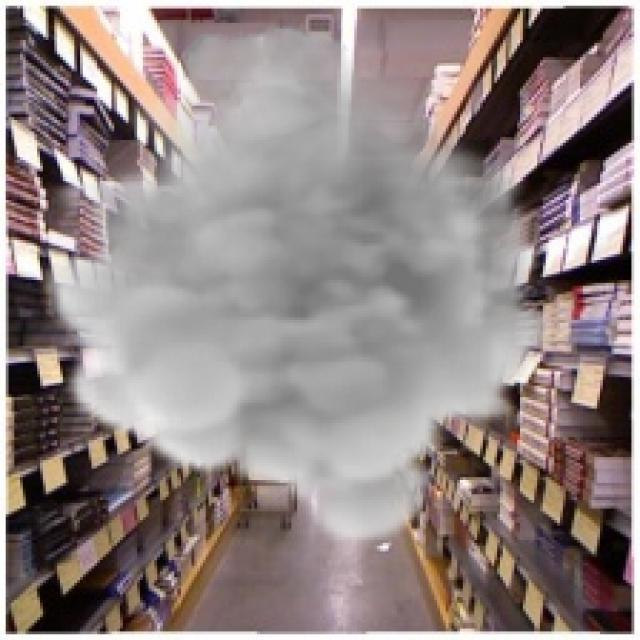Smoke: (37, 22, 552, 552)
